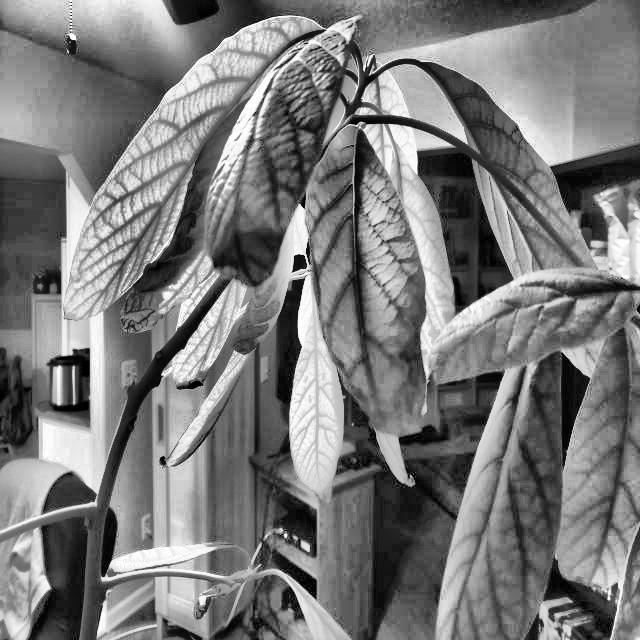plants: (55, 18, 512, 467), (317, 149, 442, 454)
